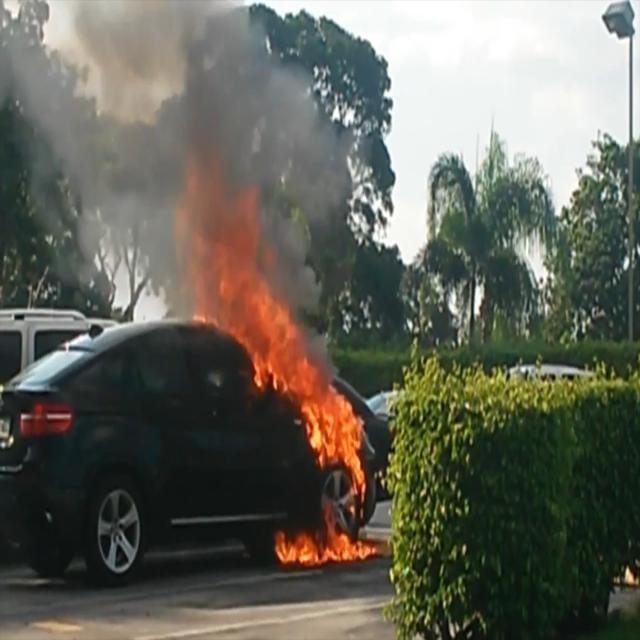fire: (184, 199, 374, 568)
